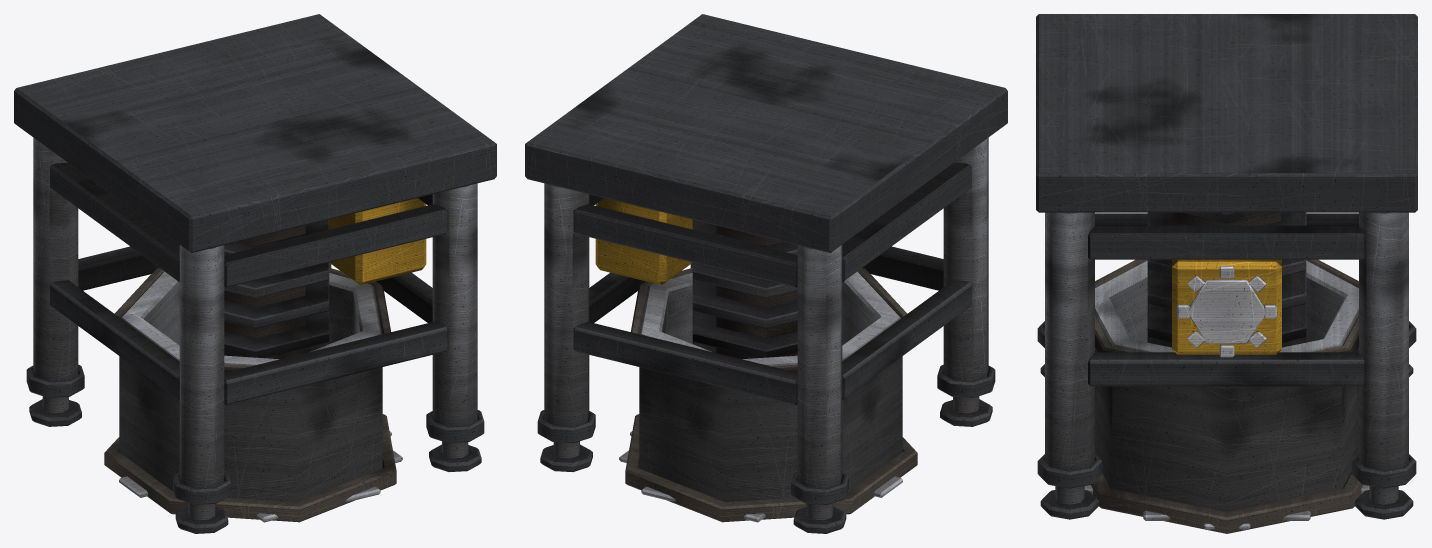
The model's file is R4M_HoverEngine_LOD1.glb.
3 views of the same model, side by side, from view 1: azimuth 30°, elevation 25°; view 2: azimuth 150°, elevation 25°; view 3: azimuth 270°, elevation 25° (orthographic). The views are drawn at different scales.
Visible parts, largest first — view 1: R4M_HoverEngine_LOD1; view 2: R4M_HoverEngine_LOD1; view 3: R4M_HoverEngine_LOD1.
Boxes of the visible parts, left/top/right/bottom form: R4M_HoverEngine_LOD1: left=14, top=14, right=496, bottom=533; R4M_HoverEngine_LOD1: left=525, top=14, right=1007, bottom=533; R4M_HoverEngine_LOD1: left=1036, top=14, right=1417, bottom=533.
Bounding box in the file's own units: 0.52 × 0.56 × 0.52.
Materials: 5 (5 with a texture image).
